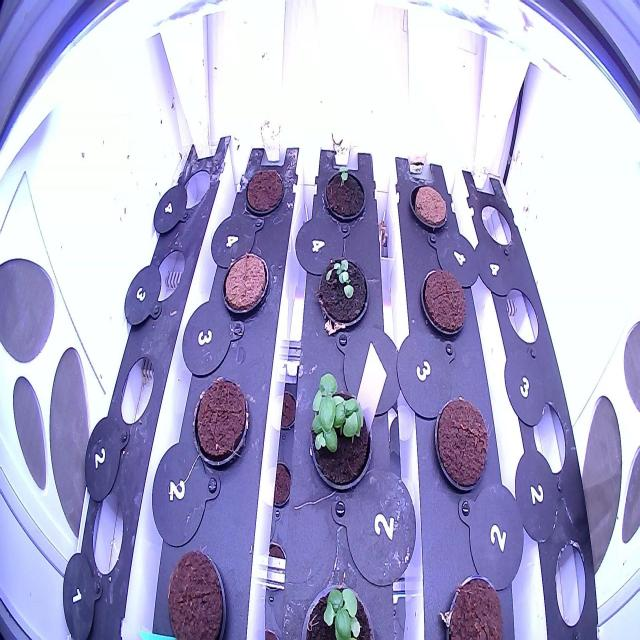empty_pod: (84, 481, 127, 581), (550, 536, 591, 632), (524, 393, 570, 477), (115, 347, 158, 435), (501, 279, 542, 348), (151, 242, 189, 307), (476, 200, 517, 250), (178, 158, 212, 214)
germination: (316, 253, 371, 329), (320, 158, 367, 230)
pod: (430, 388, 492, 499), (189, 369, 252, 478), (162, 543, 230, 637), (442, 571, 510, 637), (416, 263, 470, 346), (219, 249, 271, 322), (407, 176, 454, 239), (242, 165, 288, 221)
